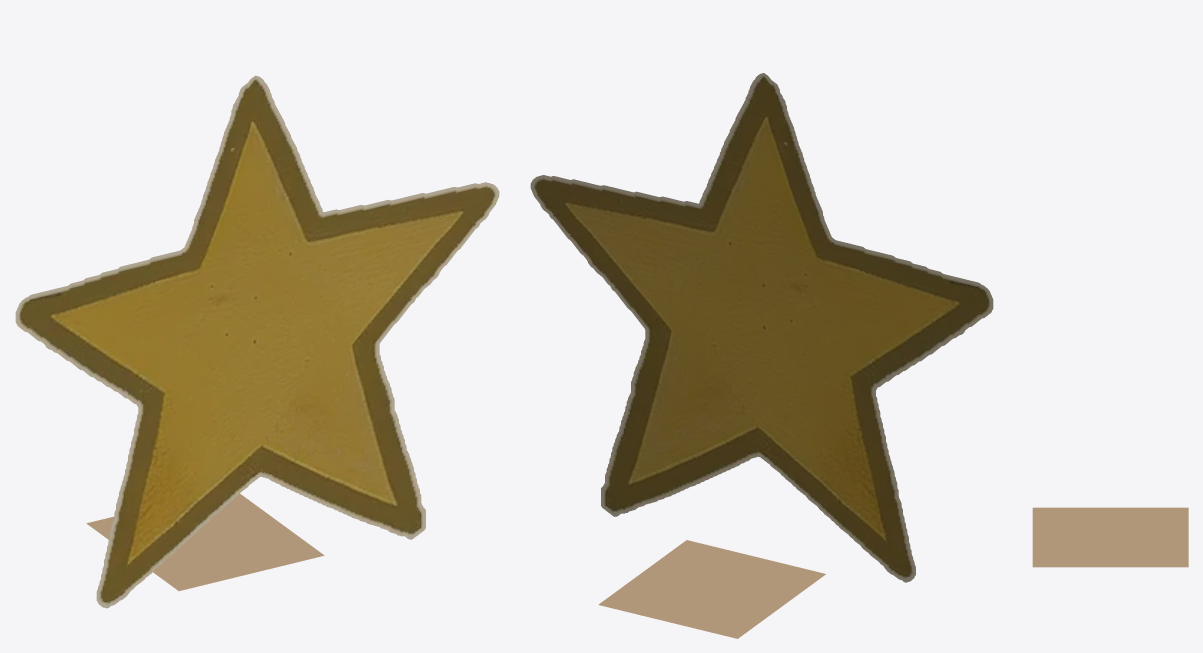
File: toad-standee-spilled-star.glb
3 renders of one model, left to right at view 1: azimuth 30°, elevation 25°; view 2: azimuth 150°, elevation 25°; view 3: azimuth 270°, elevation 25°, orthographic. The views are drawn at different scales.
Parts seen in each view (by area): view 1: spilled-star; view 2: spilled-star; view 3: spilled-star.
Part boxes in pixels (box(x1,y1,x2,y2)): spilled-star: box(15, 75, 499, 608); spilled-star: box(530, 73, 993, 638); spilled-star: box(1032, 507, 1188, 567).
Size of the model in its own units: 0.1 by 0.0994 by 0.035.
Materials: 1 (1 with a texture image).
